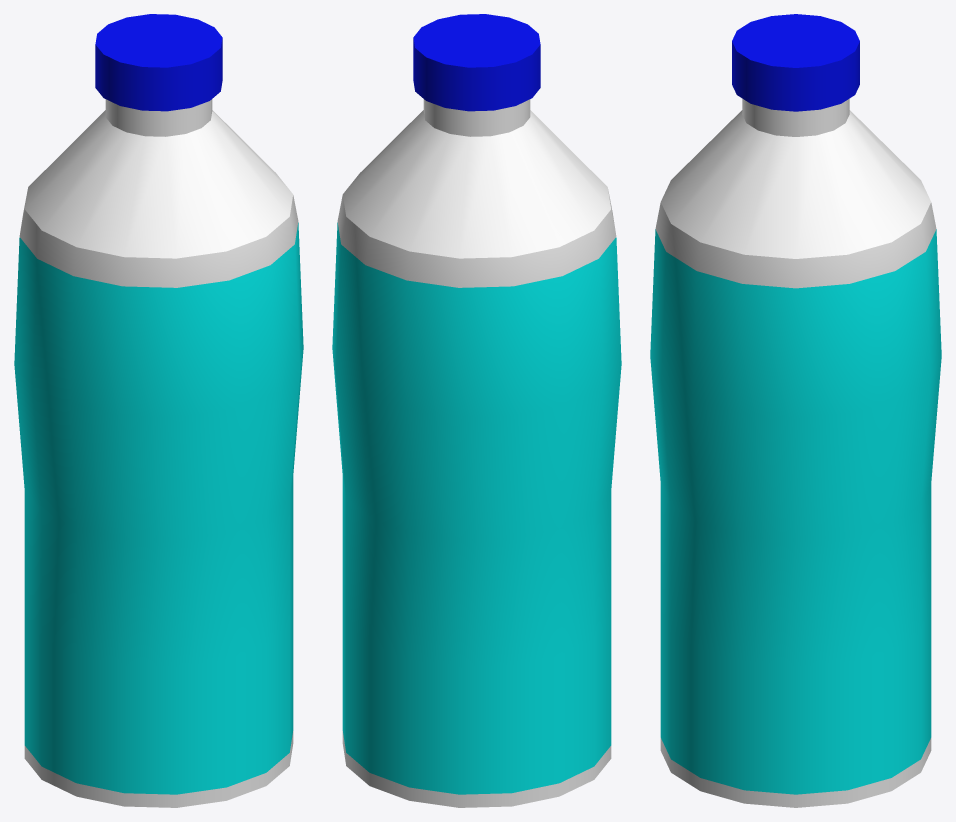
File: Water Bottle.FBX
The picture shows the model from 3 angles, left to right: view 1: azimuth 30°, elevation 25°; view 2: azimuth 150°, elevation 25°; view 3: azimuth 270°, elevation 25°; orthographic projection.
Visible parts, largest first — view 1: Water Bottle; view 2: Water Bottle; view 3: Water Bottle.
Boxes of the visible parts, left/top/right/bottom form: Water Bottle: left=14, top=14, right=303, bottom=807; Water Bottle: left=332, top=14, right=621, bottom=807; Water Bottle: left=650, top=14, right=941, bottom=807.
Size of the model in its own units: 2.35 by 6.31 by 2.35.
